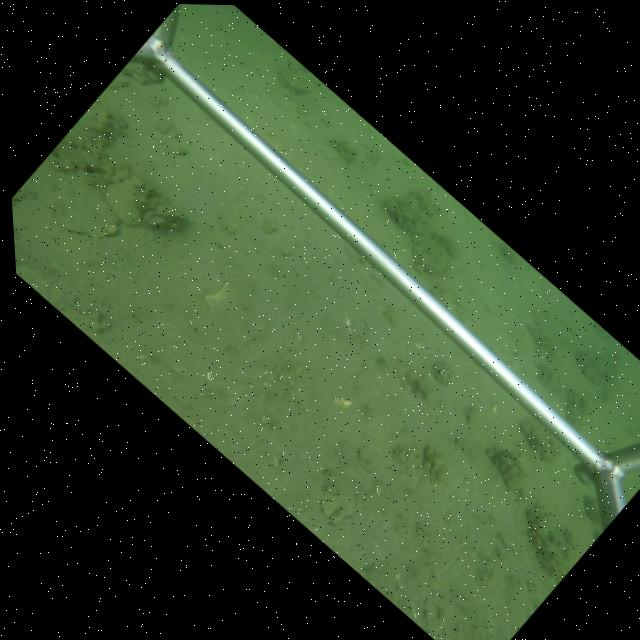Oyster-Closed: (149, 202, 184, 222)
Oyster-Indeterminate: (47, 169, 118, 238), (102, 173, 144, 230)
